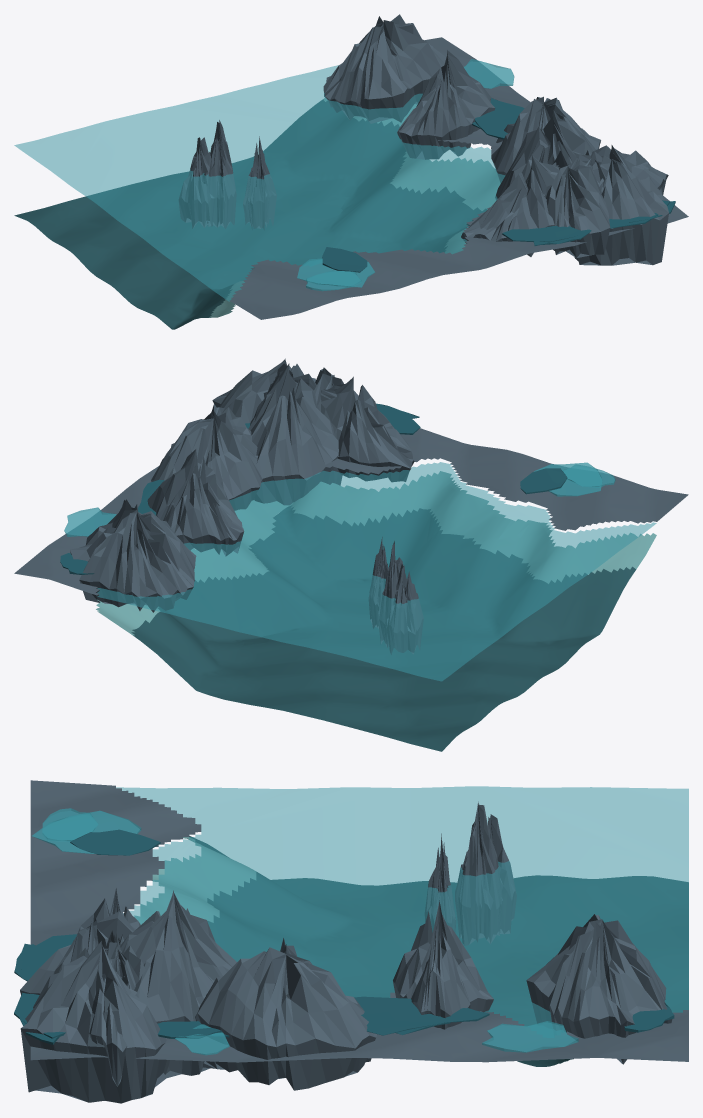
Rendered from water_tile_12.glb.
3 views of the same model, one above another, from view 1: azimuth 30°, elevation 25°; view 2: azimuth 150°, elevation 25°; view 3: azimuth 270°, elevation 25° (orthographic). The views are drawn at different scales.
Parts seen in each view (by area): view 1: glacial water surface 12, submerged mineral riverbed.012, single continuous dark slate shoreline.012, angular fractured shoreline ledge.114, angular fractured shoreline ledge.116, angular fractured shoreline ledge.115, visible shallow mineral shelves.012, angular fractured shoreline ledge.117, angular fractured shoreline ledge.119, angular fractured shoreline ledge.113, angular fractured shoreline ledge.112, underwater worn boulder.038 (+9 smaller); view 2: submerged mineral riverbed.012, glacial water surface 12, visible shallow mineral shelves.012, single continuous dark slate shoreline.012, angular fractured shoreline ledge.114, angular fractured shoreline ledge.113, angular fractured shoreline ledge.115, angular fractured shoreline ledge.112, angular fractured shoreline ledge.119, underwater worn boulder.039, angular fractured shoreline ledge.116, isolated flooded rock depression.059 (+6 smaller); view 3: glacial water surface 12, submerged mineral riverbed.012, single continuous dark slate shoreline.012, angular fractured shoreline ledge.112, angular fractured shoreline ledge.116, angular fractured shoreline ledge.114, angular fractured shoreline ledge.113, angular fractured shoreline ledge.115, visible shallow mineral shelves.012, underwater worn boulder.038, angular fractured shoreline ledge.118, erosion water finger above land.142 (+13 smaller).
Boxes of the visible parts, x1,y1,x2,y2 form: glacial water surface 12: [14, 65, 505, 301]; submerged mineral riverbed.012: [14, 99, 487, 329]; single continuous dark slate shoreline.012: [229, 37, 688, 319]; angular fractured shoreline ledge.114: [323, 14, 446, 123]; angular fractured shoreline ledge.116: [574, 145, 668, 265]; angular fractured shoreline ledge.115: [397, 50, 495, 159]; visible shallow mineral shelves.012: [209, 98, 500, 317]; angular fractured shoreline ledge.117: [544, 150, 610, 258]; angular fractured shoreline ledge.119: [461, 154, 569, 256]; angular fractured shoreline ledge.113: [495, 110, 591, 250]; angular fractured shoreline ledge.112: [491, 96, 600, 183]; underwater worn boulder.038: [207, 120, 236, 228]; submerged mineral riverbed.012: [131, 505, 636, 751]; glacial water surface 12: [97, 462, 656, 681]; visible shallow mineral shelves.012: [96, 471, 656, 635]; single continuous dark slate shoreline.012: [14, 428, 688, 595]; angular fractured shoreline ledge.114: [70, 499, 196, 612]; angular fractured shoreline ledge.113: [248, 363, 342, 505]; angular fractured shoreline ledge.115: [147, 449, 244, 556]; angular fractured shoreline ledge.112: [151, 404, 262, 510]; angular fractured shoreline ledge.119: [313, 376, 414, 482]; underwater worn boulder.039: [386, 563, 423, 654]; angular fractured shoreline ledge.116: [219, 358, 315, 423]; isolated flooded rock depression.059: [534, 462, 602, 496]; glacial water surface 12: [116, 786, 688, 1026]; submerged mineral riverbed.012: [189, 836, 688, 1066]; single continuous dark slate shoreline.012: [30, 780, 688, 1062]; angular fractured shoreline ledge.112: [195, 938, 376, 1090]; angular fractured shoreline ledge.116: [20, 941, 169, 1103]; angular fractured shoreline ledge.114: [526, 914, 672, 1064]; angular fractured shoreline ledge.113: [120, 890, 236, 1078]; angular fractured shoreline ledge.115: [393, 900, 493, 1029]; visible shallow mineral shelves.012: [134, 837, 256, 924]; underwater worn boulder.038: [455, 801, 502, 945]; angular fractured shoreline ledge.118: [88, 930, 145, 1086]; erosion water finger above land.142: [354, 996, 489, 1035].
Bounding box in the file's own units: 1.03 × 0.3715 × 1.03.
